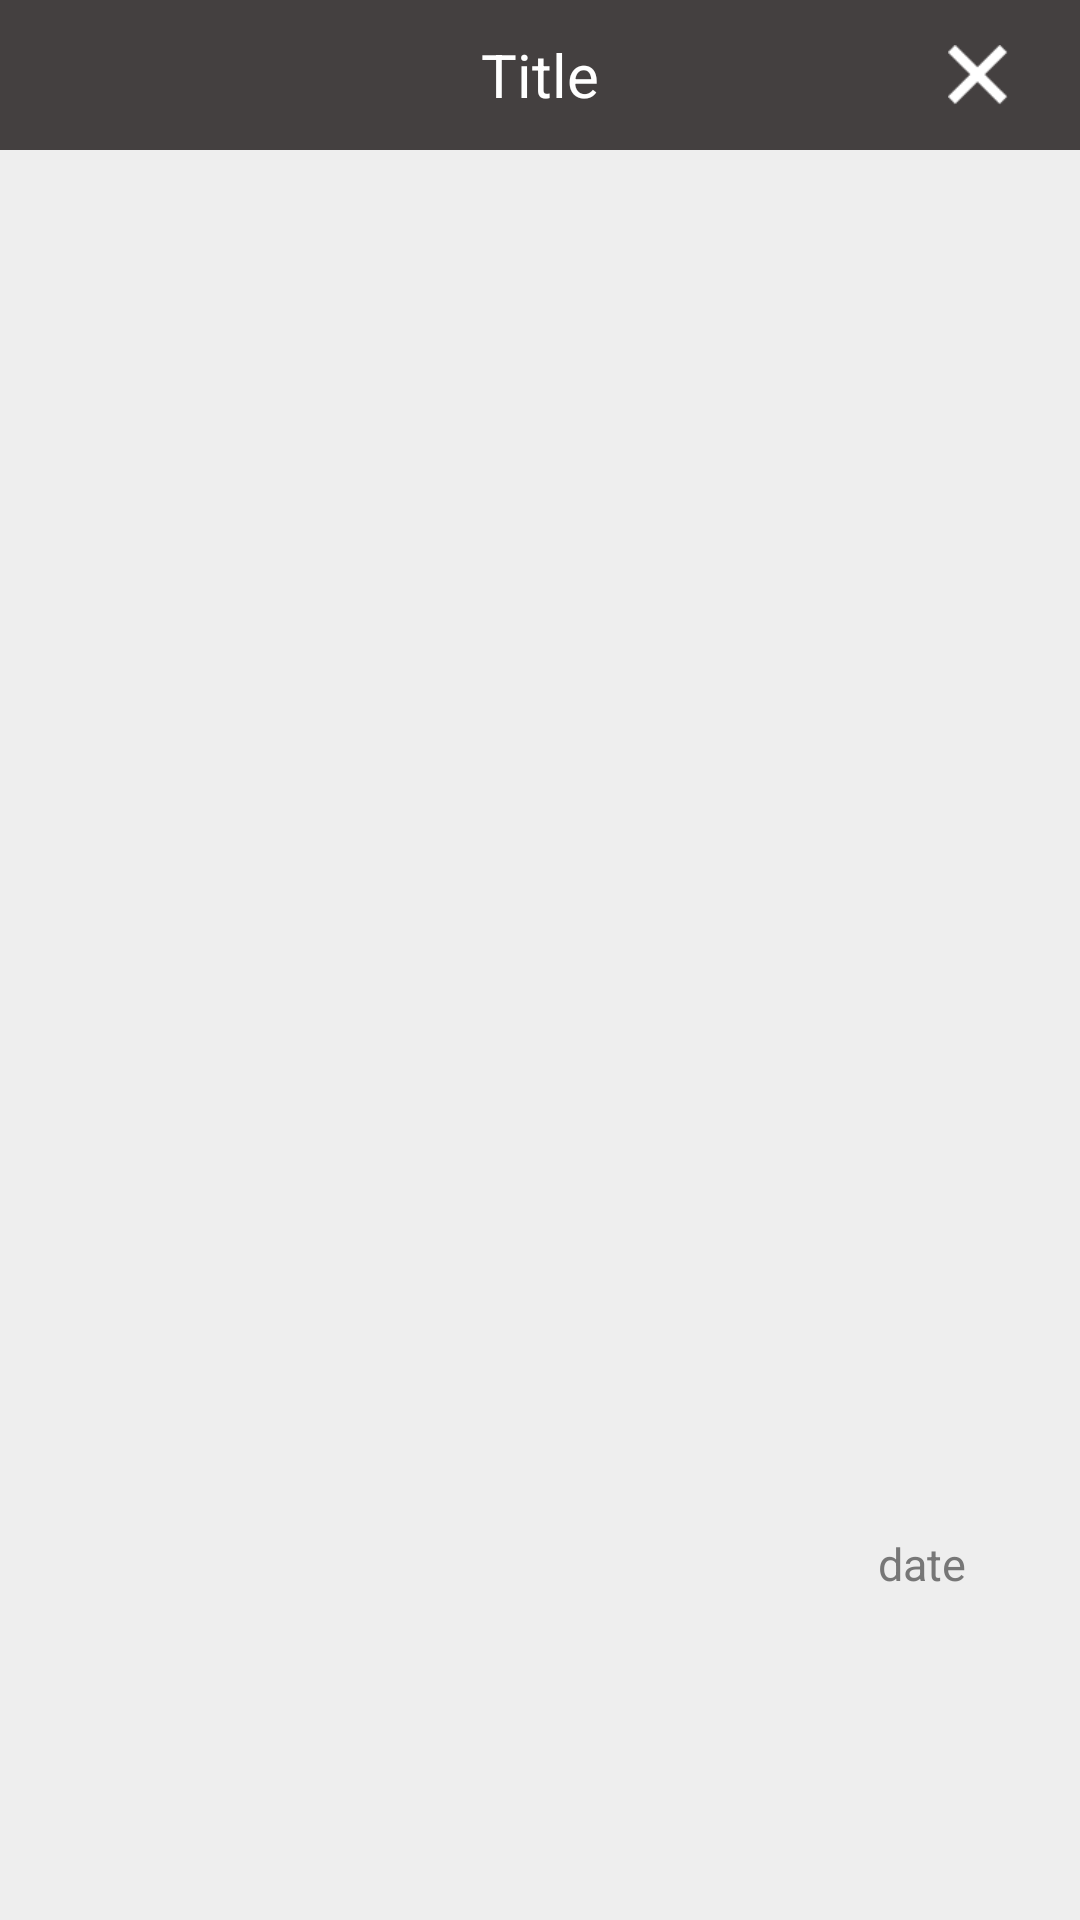

Icon click points for this 1080w x 1920h phone screenshot, format (x=x, y=y):
cancle: (x=977, y=74)
